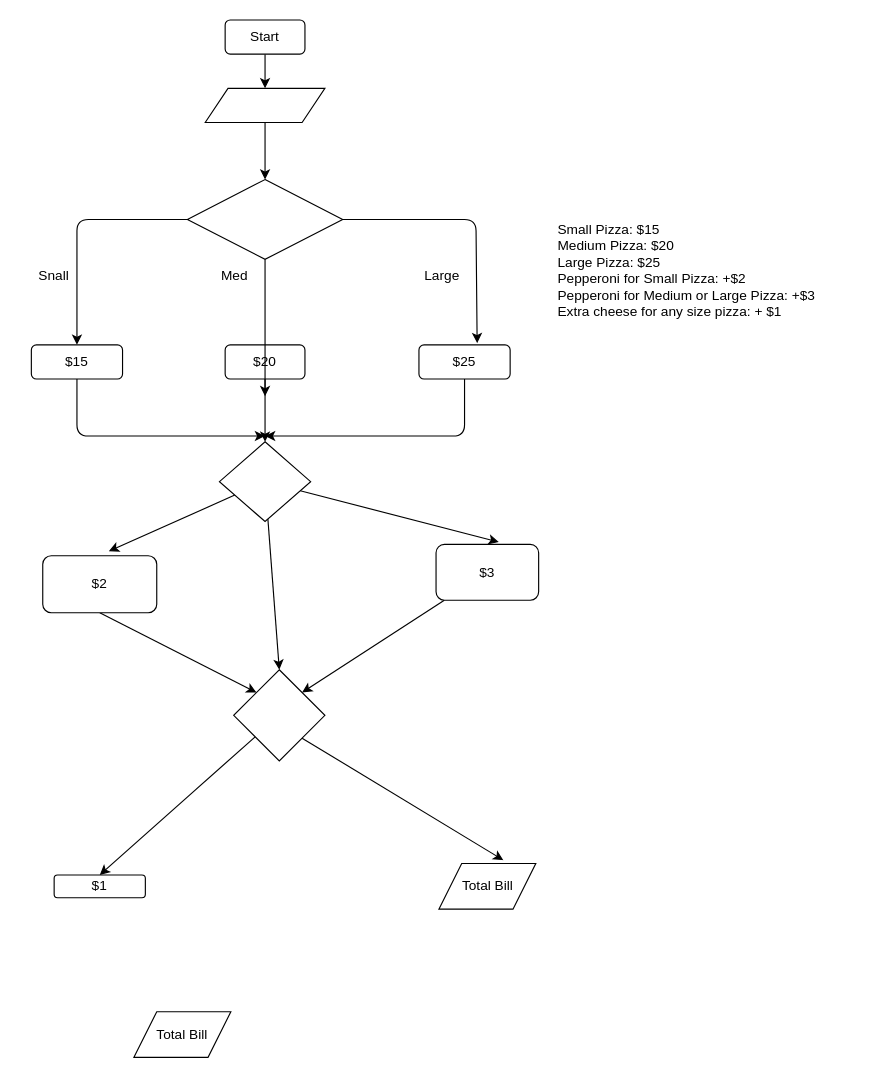
The diagram is 871 pixels wide and 1077 high, and some of its shapes have lost their labels. Here are the shapes that lost their labels. From the top down, the centre of each, then its label:
At point (264, 105): "Pizza Order".
At point (264, 218): "Pizza ; Small, Med or large".
At point (264, 481): "Pepperoni".
At point (279, 715): "Extra Cheese".
